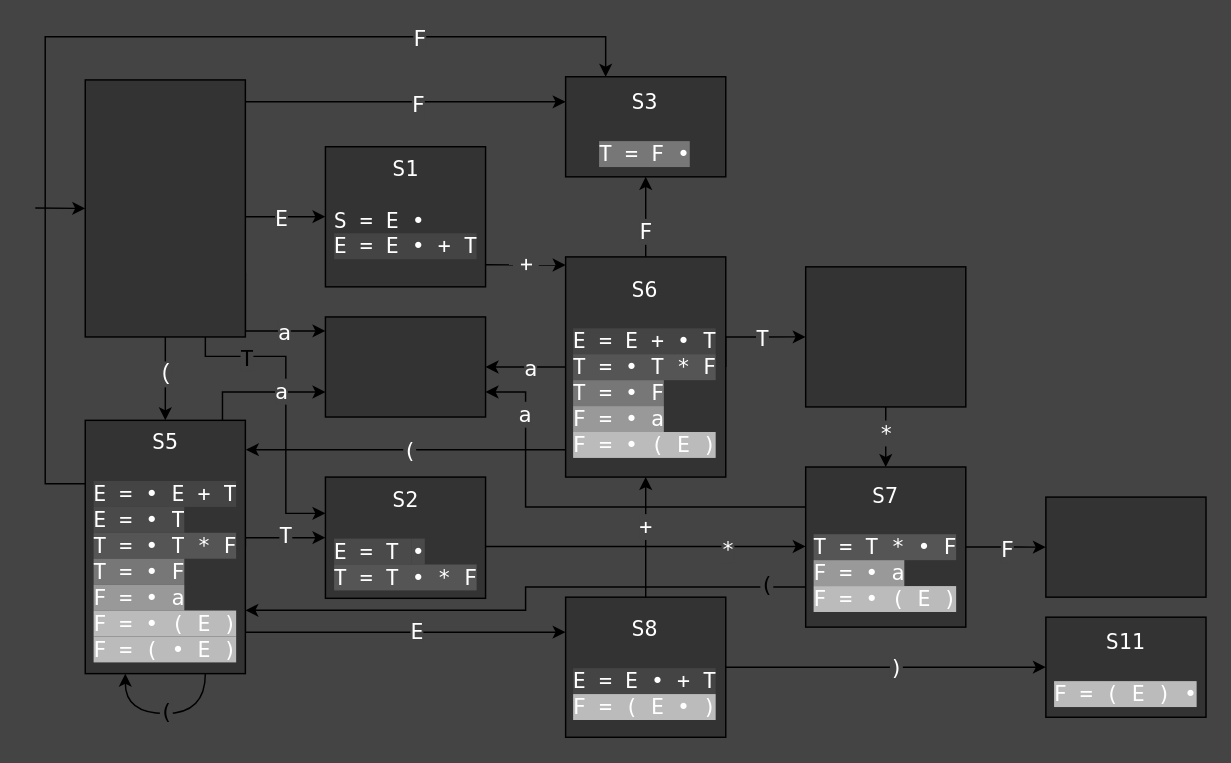
Some shapes in this 1231 by 763 pixel diagram are drawn without their labels. Each missing label, with the centre of its shape:
S0 S = • E E = • E + T E = • T T = • T * F T = • F F = • a F = • ( E ): the point at 164,207
S10 T = T * F •: the point at 1125,546
S4 F = a •: the point at 405,366
S9 E = E + T • T = T • * F: the point at 885,336
